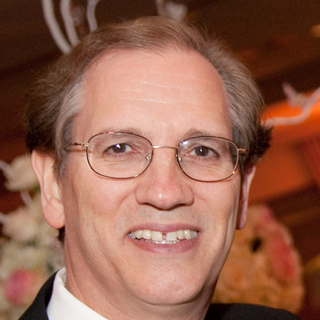eye: (94, 135, 144, 164), (181, 139, 223, 166)
